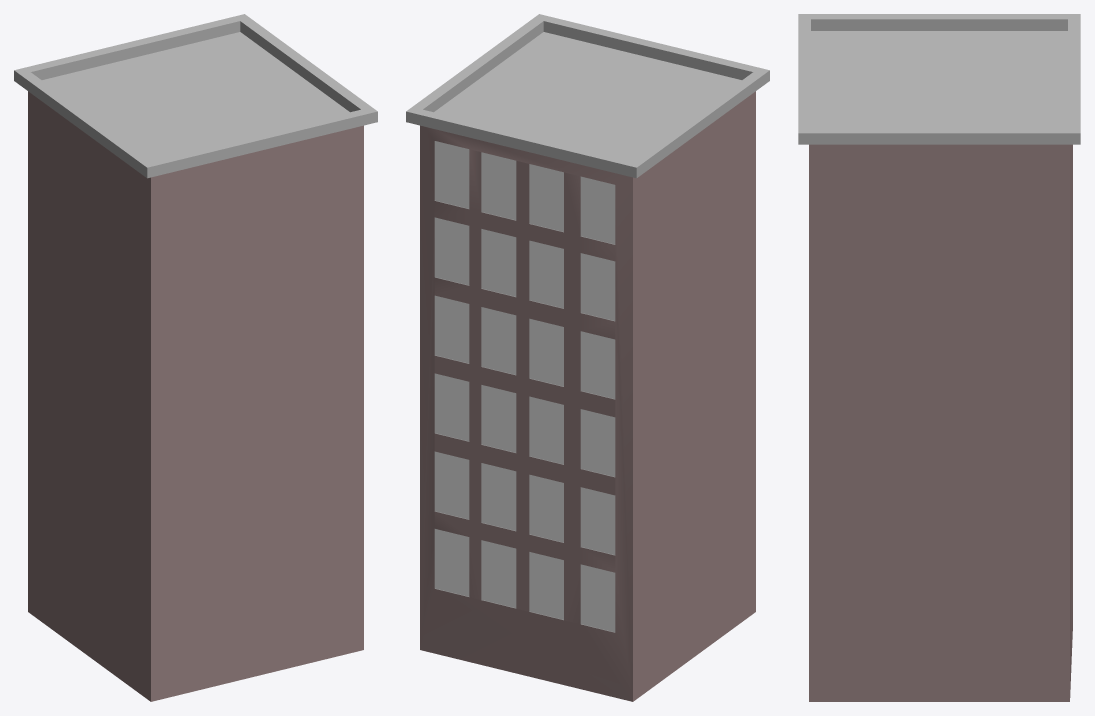
File: Building_5.fbx
3 renders of one model, left to right at view 1: azimuth 30°, elevation 25°; view 2: azimuth 150°, elevation 25°; view 3: azimuth 270°, elevation 25°, orthographic. The views are drawn at different scales.
Parts seen in each view (by area): view 1: polySurface164; view 2: polySurface164; view 3: polySurface164.
Boxes of the visible parts, x1,y1,x2,y2 form: polySurface164: (14,14,377,701); polySurface164: (406,14,769,701); polySurface164: (798,14,1080,701).
Size of the model in its own units: 55.93 by 125 by 55.93.
